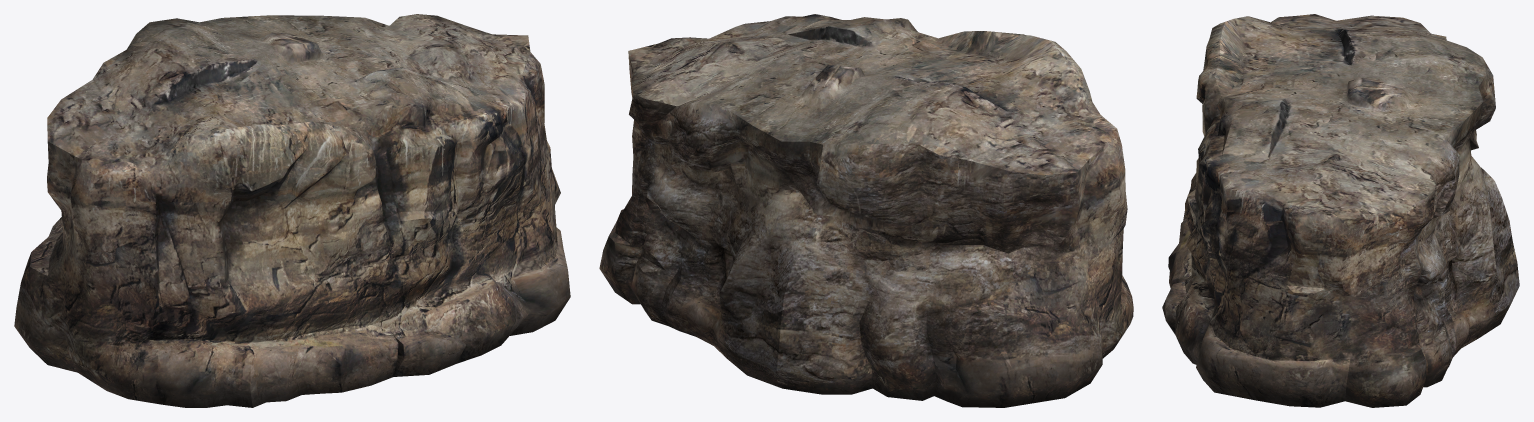
Rendered from Rock 02.FBX.
3 renders of one model, left to right at view 1: azimuth 30°, elevation 25°; view 2: azimuth 150°, elevation 25°; view 3: azimuth 270°, elevation 25°, orthographic. The views are drawn at different scales.
Parts seen in each view (by area): view 1: Rock 02; view 2: Rock 02; view 3: Rock 02.
Boxes of the visible parts, box(x1,y1,x2,y2) form: Rock 02: box(14, 14, 570, 407); Rock 02: box(599, 14, 1133, 407); Rock 02: box(1162, 14, 1519, 407).
Bounding box in the file's own units: 25.78 × 13.37 × 18.3.
